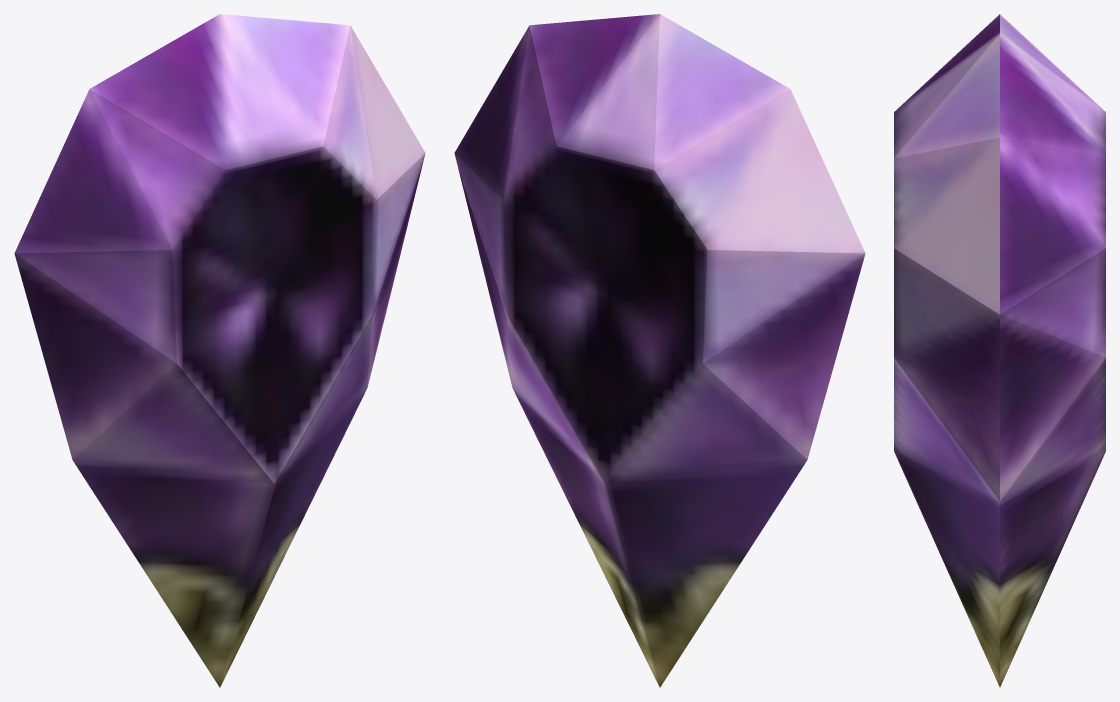
File: crystall.glb
The picture shows the model from 3 angles, left to right: view 1: azimuth 30°, elevation 25°; view 2: azimuth 150°, elevation 25°; view 3: azimuth 270°, elevation 25°; orthographic projection. The views are drawn at different scales.
Parts seen in each view (by area): view 1: crystall; view 2: crystall; view 3: crystall.
Boxes of the visible parts, box(x1,y1,x2,y2) form: crystall: box(14, 14, 425, 687); crystall: box(454, 14, 865, 687); crystall: box(894, 14, 1105, 687).
Bounding box in the file's own units: 2.83 × 4.43 × 1.3.
1 material, 1 textured.
